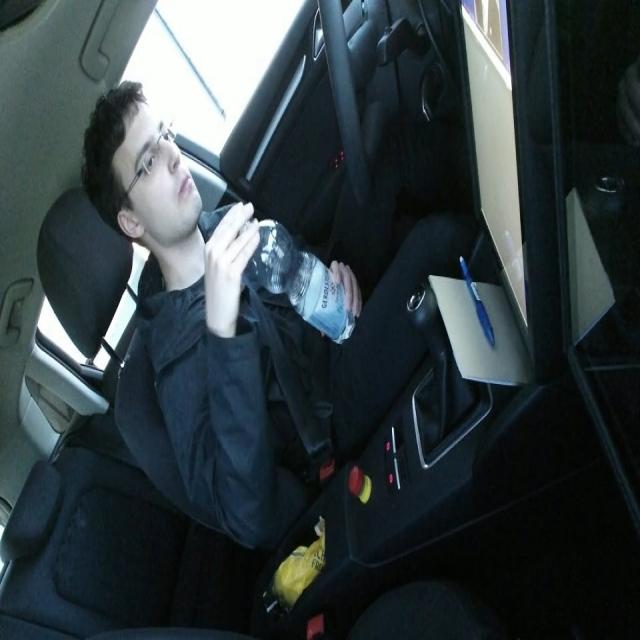pen: (458, 252, 495, 348)
